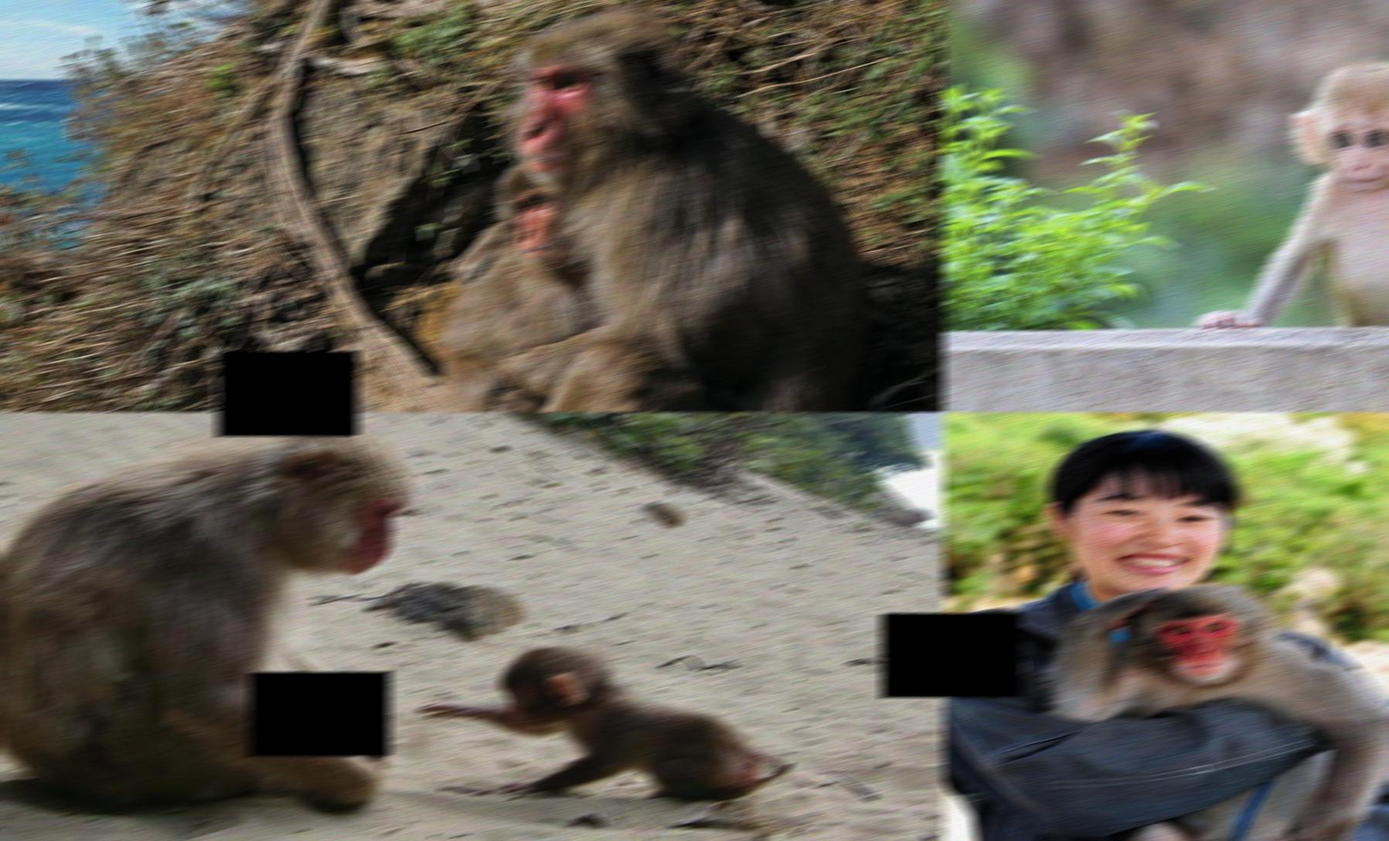Macaca fuscata: (452, 7, 859, 412), (0, 431, 414, 816), (1047, 581, 1389, 840), (1203, 58, 1389, 411), (419, 644, 793, 810), (452, 168, 569, 412)
human: (944, 429, 1389, 839)
